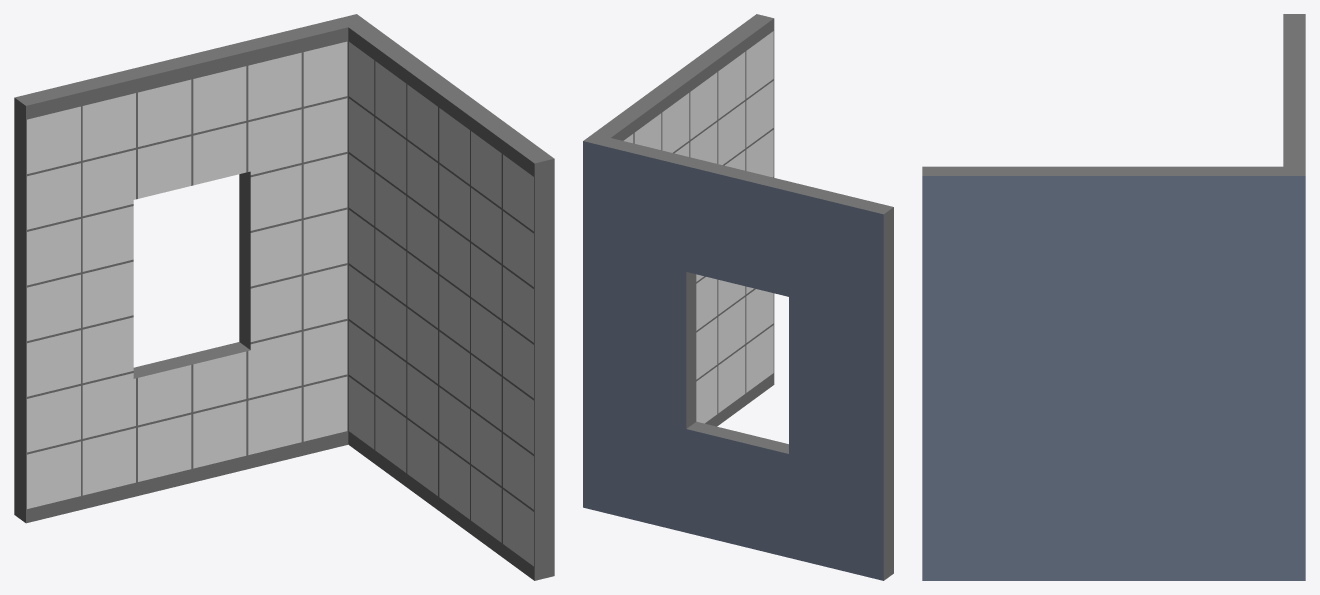
Rendered from Wall3_C7_07.fbx.
The picture shows the model from 3 angles, left to right: view 1: azimuth 30°, elevation 25°; view 2: azimuth 150°, elevation 25°; view 3: azimuth 270°, elevation 25°; orthographic projection. The views are drawn at different scales.
Visible parts, largest first — view 1: Wall3_C7_07; view 2: Wall3_C7_07; view 3: Wall3_C7_07.
Boxes of the visible parts, left/top/right/bottom form: Wall3_C7_07: left=14, top=14, right=554, bottom=580; Wall3_C7_07: left=583, top=14, right=893, bottom=580; Wall3_C7_07: left=922, top=14, right=1305, bottom=580.
Size of the model in its own units: 258 by 300 by 258.
